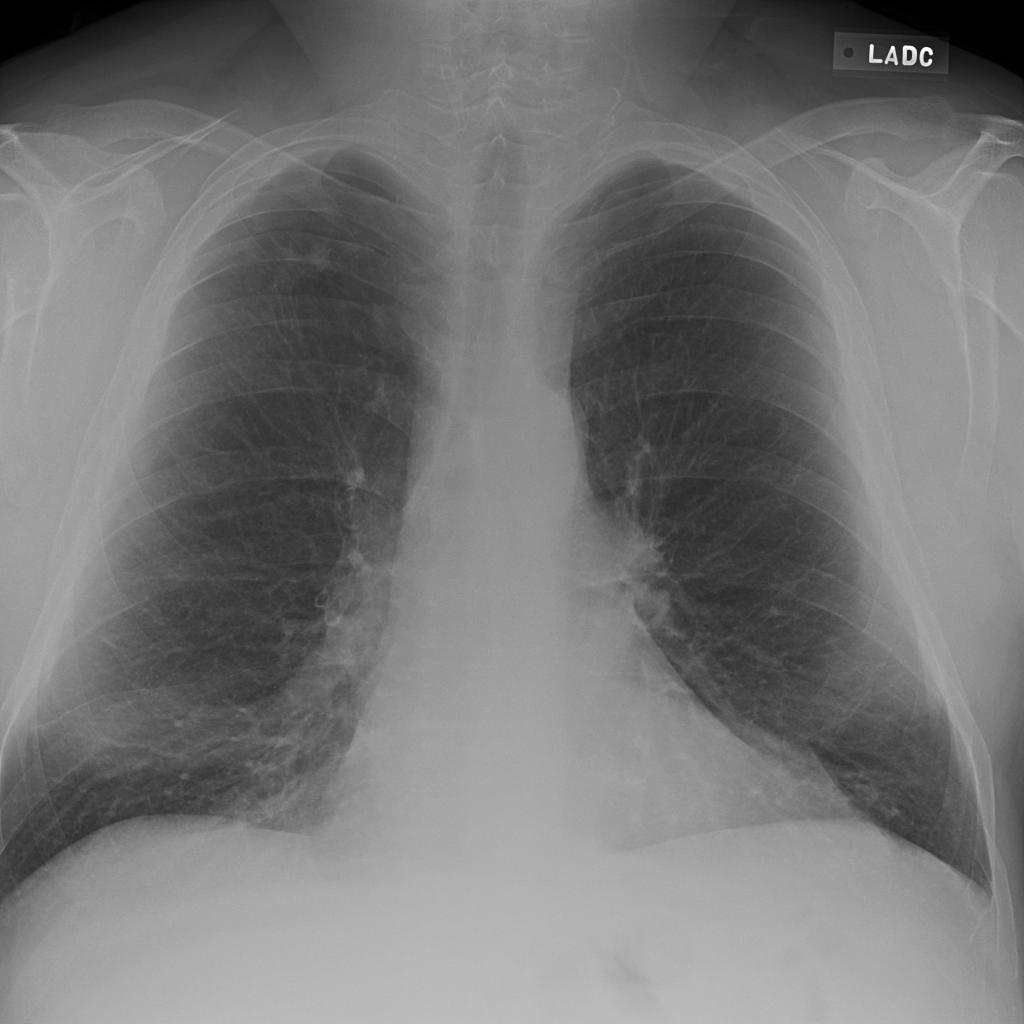Nodule: (138, 118, 175, 149), (385, 203, 416, 228)
